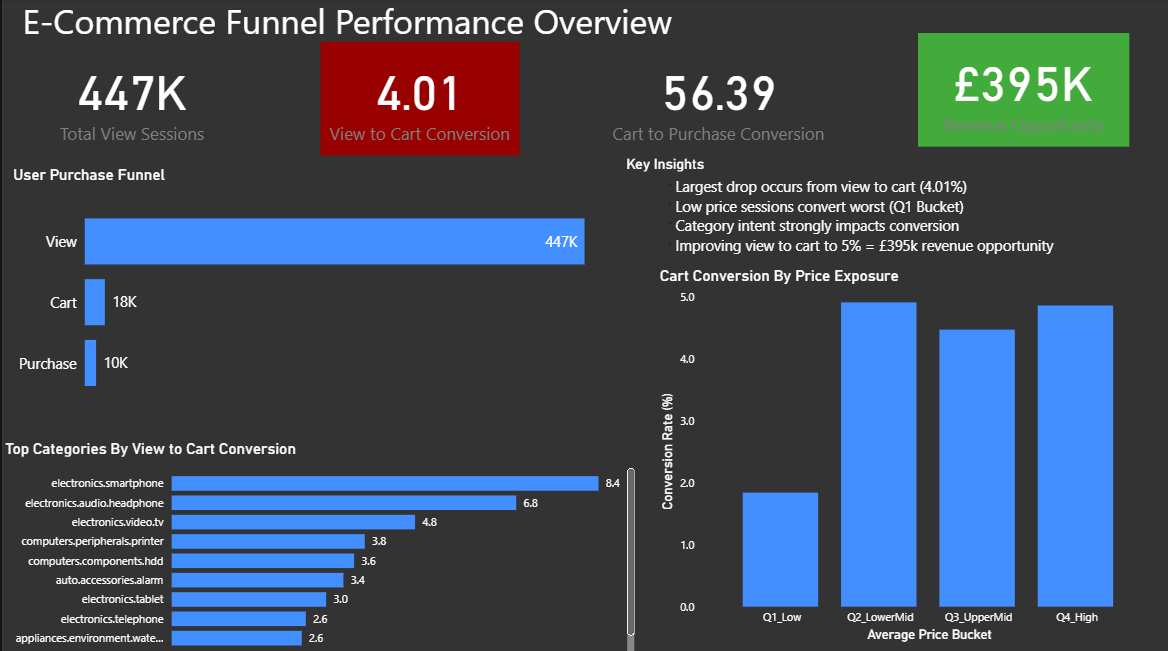

The page's visual inventory and layout, read from the dashboard file:
{"tool":"powerbi","page":{"name":"Page 1","canvas":[1280,720],"ordinal":0},"visuals":[{"type":"card","fields":{"Values":["Sum(funnel_summary.sessions)"]},"box":[32.9,48,218.2,124.9],"z":0},{"type":"card","fields":{"Values":["Min(funnel_summary.conversion_percent)"]},"box":[348.5,48,218.2,124.9],"z":1},{"type":"card","fields":{"Values":["Min(funnel_summary.conversion_percent)"]},"box":[664.2,48,242.9,124.9],"z":2},{"type":"card","fields":{"Values":["category_conversion.Revenue Oppurtunity"]},"box":[1004.5,38.4,231.9,124.9],"z":3},{"type":"clusteredBarChart","title":"User Purchase Funnel","fields":{"Y":["Sum(funnel_summary.sessions)"],"Category":["funnel_summary.stage"]},"box":[1.4,172.9,697.1,292.3],"z":4},{"type":"clusteredBarChart","title":"Top Categories By View to Cart Conversion","fields":{"Category":["category_conversion.category_code"],"Y":["Sum(category_conversion.view_to_cart_percent)"]},"box":[1.4,484.4,697.1,236],"z":5},{"type":"clusteredColumnChart","title":"Cart Conversion By Price Exposure","fields":{"Category":["price_bucket_conversion.price_bucket"],"Y":["Avg(price_bucket_conversion.view_to_cart_percent)"]},"box":[716.3,295,554.4,417.2],"z":6},{"type":"textbox","title":" E-Commerce Funnel Performance Overview","box":[16.5,0,813.7,76.8],"z":7},{"type":"textbox","title":"Key Insights","box":[679.2,172.9,581.8,122.1],"z":8}]}

Visuals, with their boxes in screenshot pixels (x1, y1, x2, y2), scaled from the page's 1280x720 canvas onto the 1168x651 screenshot:
card - Sum(funnel_summary.sessions): 30:43:229:156
card - Min(funnel_summary.conversion_percent): 318:43:517:156
card - Min(funnel_summary.conversion_percent): 606:43:828:156
card - category_conversion.Revenue Oppurtunity: 917:35:1128:148
"User Purchase Funnel" clusteredBarChart: 1:156:637:421
"Top Categories By View to Cart Conversion" clusteredBarChart: 1:438:637:650
"Cart Conversion By Price Exposure" clusteredColumnChart: 654:267:1160:644
" E-Commerce Funnel Performance Overview" textbox: 15:0:758:69
"Key Insights" textbox: 620:156:1151:267
